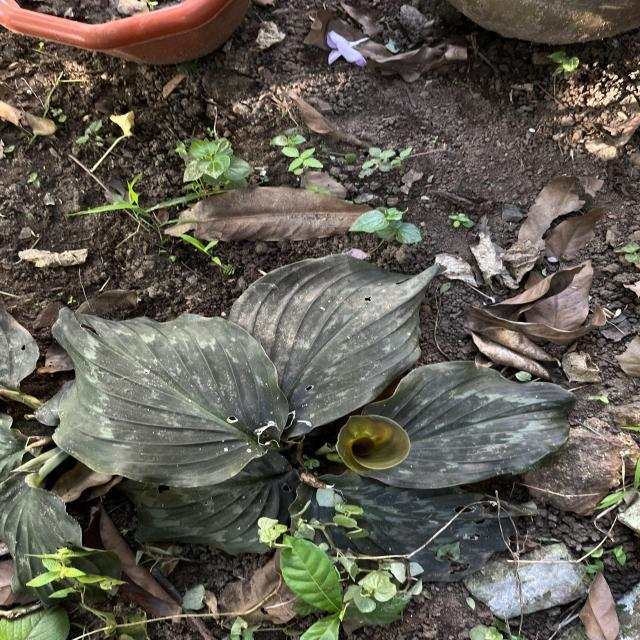Kaempferia galanga linn: (45, 304, 292, 490), (224, 251, 450, 440), (356, 356, 581, 491)
